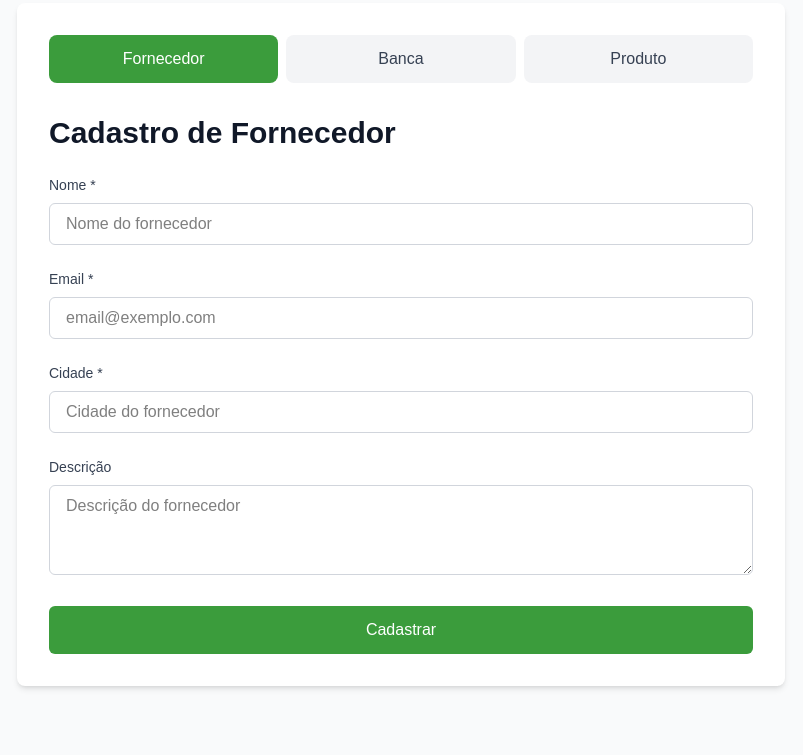
Scenario: FormCadastro - Testes Completos › EU009 - Cadastro de Fornecedor › deve validar campos obrigatórios do fornecedor
Click the button "Cadastrar": point(401, 630) [49,606,753,654]
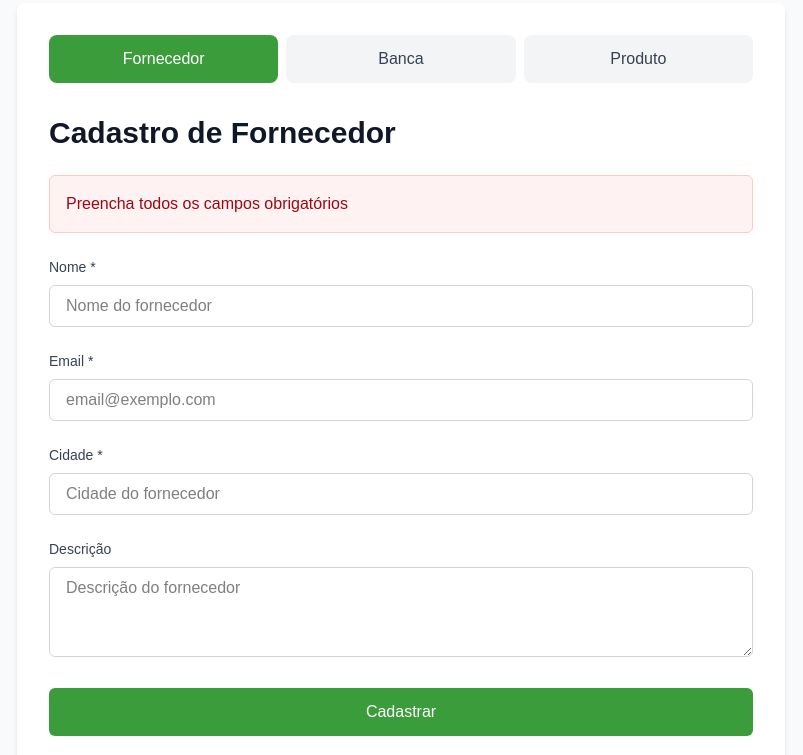
Check: the text "Preencha todos os campos obrigatórios" is shown, box [49,175,753,233]
